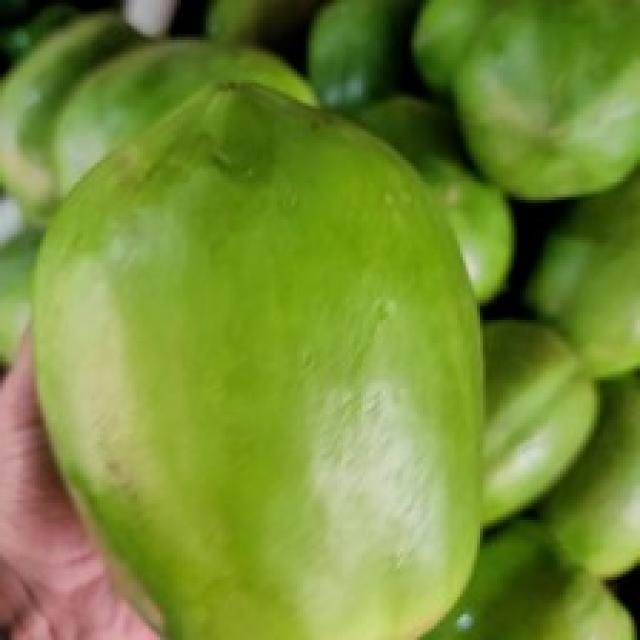Pepaya unrippen: (35, 81, 486, 640)
